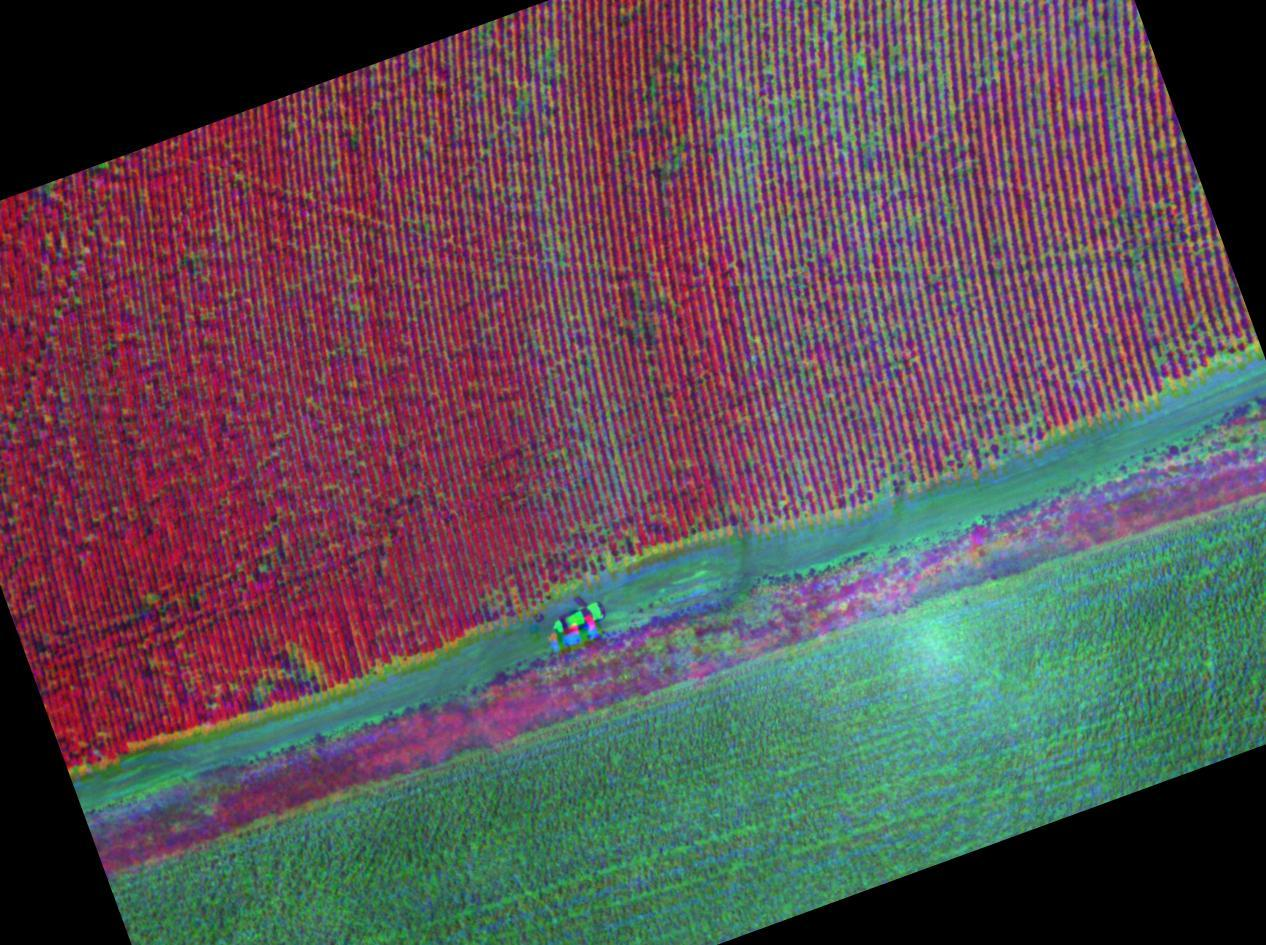dc: (706, 45, 789, 149), (817, 188, 920, 268), (821, 54, 914, 138), (980, 367, 1045, 451), (549, 544, 631, 582)
